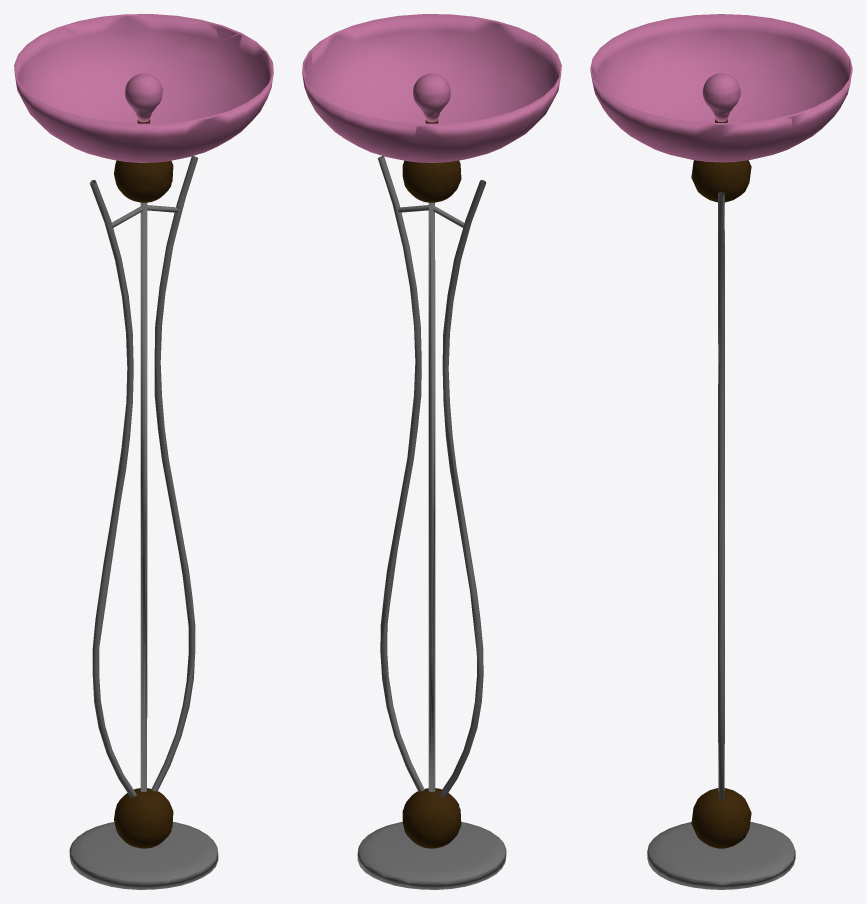
The model's file is floor_lamp_antonio_rossini.glb.
3 views of the same model, side by side, from view 1: azimuth 30°, elevation 25°; view 2: azimuth 150°, elevation 25°; view 3: azimuth 270°, elevation 25° (orthographic).
Visible parts, largest first — view 1: piantanaNew.001_LampadinaVetro_0, piantanaNew.001_cromo_0, piantanaNew.001_brunito_0; view 2: piantanaNew.001_LampadinaVetro_0, piantanaNew.001_cromo_0, piantanaNew.001_brunito_0; view 3: piantanaNew.001_LampadinaVetro_0, piantanaNew.001_cromo_0, piantanaNew.001_brunito_0.
Part boxes in pixels (bbox=[...]): piantanaNew.001_LampadinaVetro_0: bbox=[14, 14, 273, 162]; piantanaNew.001_cromo_0: bbox=[69, 156, 218, 889]; piantanaNew.001_brunito_0: bbox=[114, 119, 173, 848]; piantanaNew.001_LampadinaVetro_0: bbox=[302, 14, 561, 162]; piantanaNew.001_cromo_0: bbox=[357, 156, 506, 889]; piantanaNew.001_brunito_0: bbox=[402, 119, 461, 848]; piantanaNew.001_LampadinaVetro_0: bbox=[590, 14, 852, 162]; piantanaNew.001_cromo_0: bbox=[647, 192, 795, 889]; piantanaNew.001_brunito_0: bbox=[691, 119, 751, 848].
Size of the model in its own units: 59.61 by 200 by 60.26.
